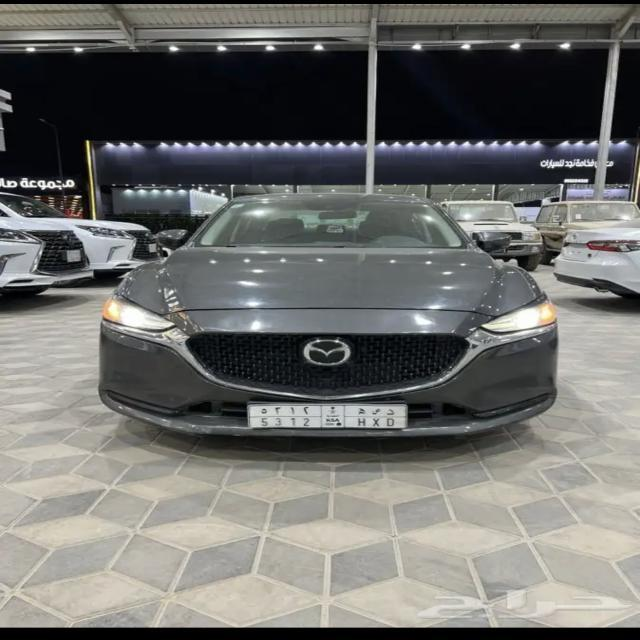license_plate: (247, 403, 408, 429)
